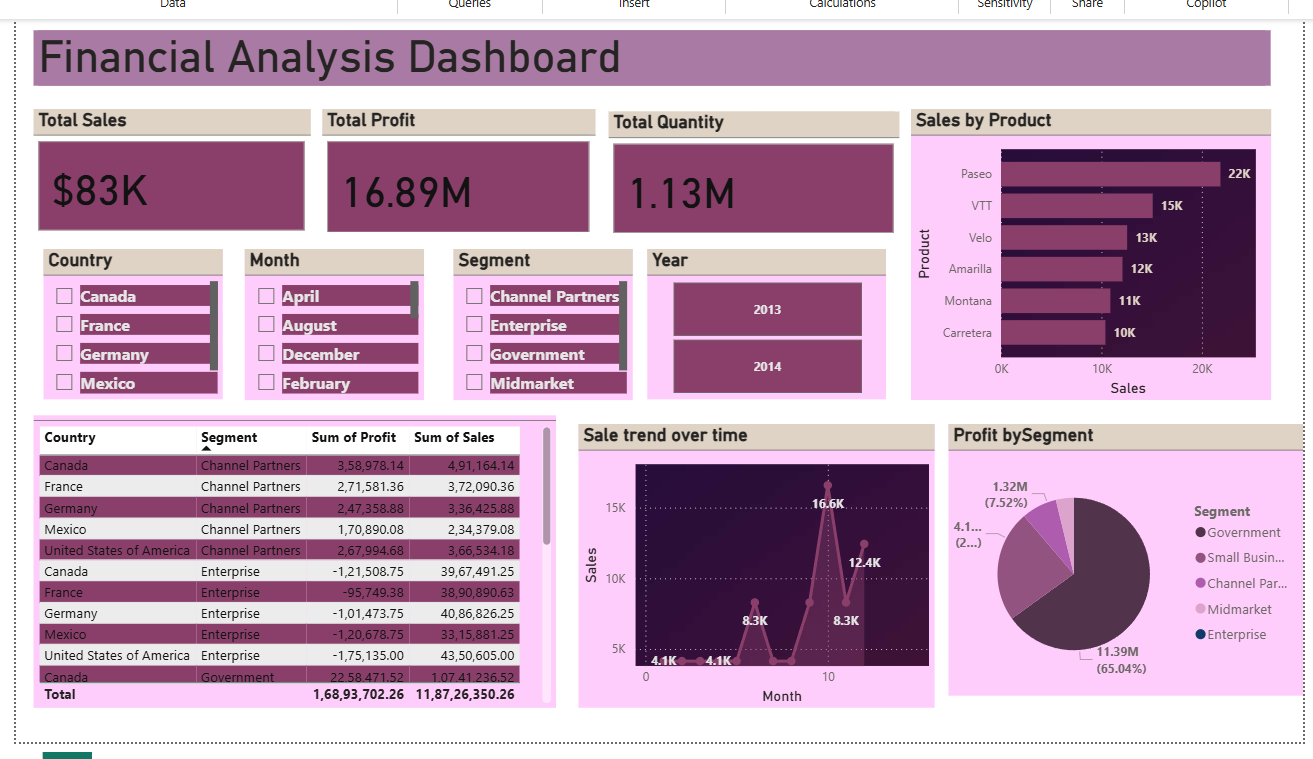

Layout of this report page (visuals, bound fields, positions):
{"tool":"powerbi","page":{"name":"Page 1","canvas":[1280,720],"ordinal":0},"visuals":[{"type":"cardVisual","title":"Total Sales","fields":{"Data":["Sum(Financial.Sale Price)"]},"box":[17.8,89.2,275.8,124.9],"z":0},{"type":"cardVisual","title":"Total Profit","fields":{"Data":["Sum(Financial.Profit)"]},"box":[304.6,89.2,271.7,127.6],"z":1},{"type":"cardVisual","title":"Total Quantity","fields":{"Data":["Sum(Financial.Units Sold)"]},"box":[590.1,91.9,289.5,124.9],"z":2},{"type":"barChart","title":"Sales by Product","fields":{"Y":["Sum(Financial.Sale Price)"],"Category":["Financial.Product"]},"box":[890.6,89.2,358.1,289.5],"z":3},{"type":"lineChart","title":"Sale  trend over time","fields":{"Y":["Sum(Financial.Sale Price)"],"Category":["Financial.Month Number"]},"box":[559.9,403.4,354,282.7],"z":4},{"type":"pieChart","title":"Profit bySegment","fields":{"Y":["Sum(Financial.Profit)"],"Category":["Financial.Segment"]},"box":[927.6,403.4,352.7,270.3],"z":5},{"type":"tableEx","fields":{"Values":["Financial.Country","Financial.Segment","Sum(Financial.Profit)","Sum(Financial. Sales)"]},"box":[17.8,393.8,520.1,290.9],"z":6},{"type":"slicer","title":"Country","fields":{"Values":["Financial.Country"]},"box":[27.4,229.2,178.4,149.6],"z":7},{"type":"slicer","title":"Month","fields":{"Values":["Financial.Month Name"]},"box":[228,229,178,150],"z":8},{"type":"slicer","title":"Segment","fields":{"Values":["Financial.Segment"]},"box":[435,229,178,150],"z":9},{"type":"slicer","title":"Year","fields":{"Values":["Financial.Year"]},"box":[628.5,229.2,237.4,149.6],"z":10},{"type":"textbox","title":"Financial Analysis Dashboard","box":[17.8,11,1230.9,78.2],"z":11}]}

Visuals, with their boxes on the page's 1280x720 design canvas (x1, y1, x2, y2). These are canvas units, not pixel positions in the 1313x759 screenshot, which may show the page scaled, cropped or inside an application window:
"Total Sales" cardVisual: (x1=18, y1=89, x2=294, y2=214)
"Total Profit" cardVisual: (x1=305, y1=89, x2=576, y2=217)
"Total Quantity" cardVisual: (x1=590, y1=92, x2=880, y2=217)
"Sales by Product" barChart: (x1=891, y1=89, x2=1249, y2=379)
"Sale  trend over time" lineChart: (x1=560, y1=403, x2=914, y2=686)
"Profit bySegment" pieChart: (x1=928, y1=403, x2=1280, y2=674)
tableEx - Financial.Country x Financial.Segment: (x1=18, y1=394, x2=538, y2=685)
"Country" slicer: (x1=27, y1=229, x2=206, y2=379)
"Month" slicer: (x1=228, y1=229, x2=406, y2=379)
"Segment" slicer: (x1=435, y1=229, x2=613, y2=379)
"Year" slicer: (x1=628, y1=229, x2=866, y2=379)
"Financial Analysis Dashboard" textbox: (x1=18, y1=11, x2=1249, y2=89)
